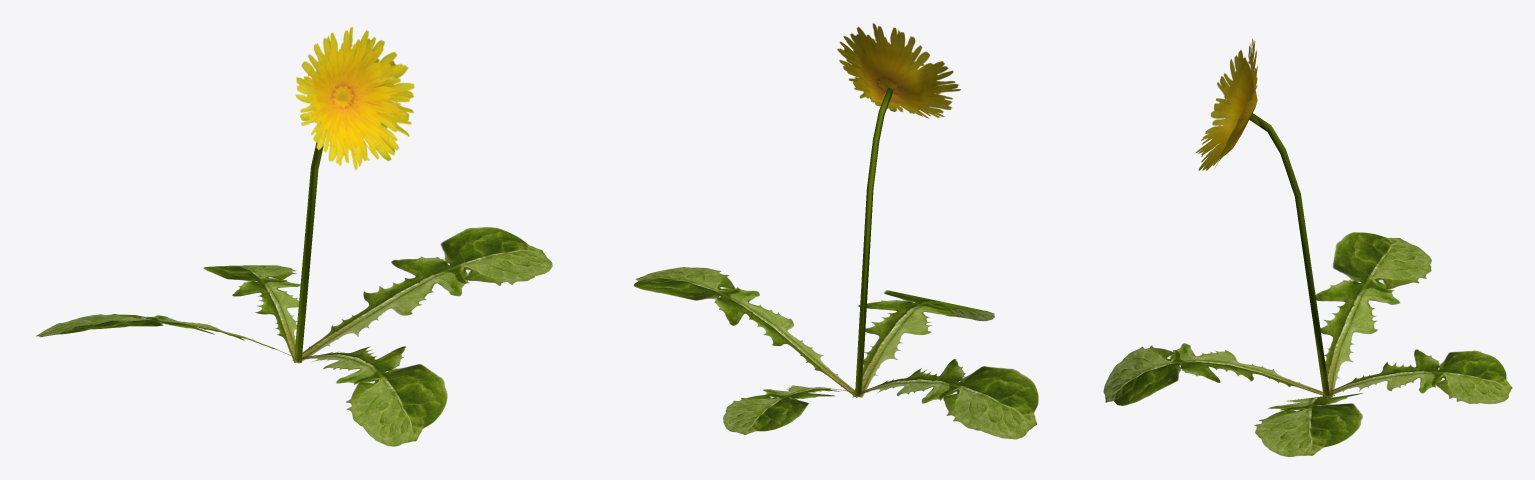
Rendered from dandelion.glb.
The picture shows the model from 3 angles, left to right: view 1: azimuth 30°, elevation 25°; view 2: azimuth 150°, elevation 25°; view 3: azimuth 270°, elevation 25°; orthographic projection. The views are drawn at different scales.
Parts seen in each view (by area): view 1: Dandelion; view 2: Dandelion; view 3: Dandelion.
Part boxes in pixels (<box>): Dandelion: <box>36,27,552,446</box>; Dandelion: <box>633,23,1038,439</box>; Dandelion: <box>1103,38,1512,456</box>.
Bounding box in the file's own units: 23.47 × 17.36 × 18.47.
Materials: 3 (3 with a texture image).
